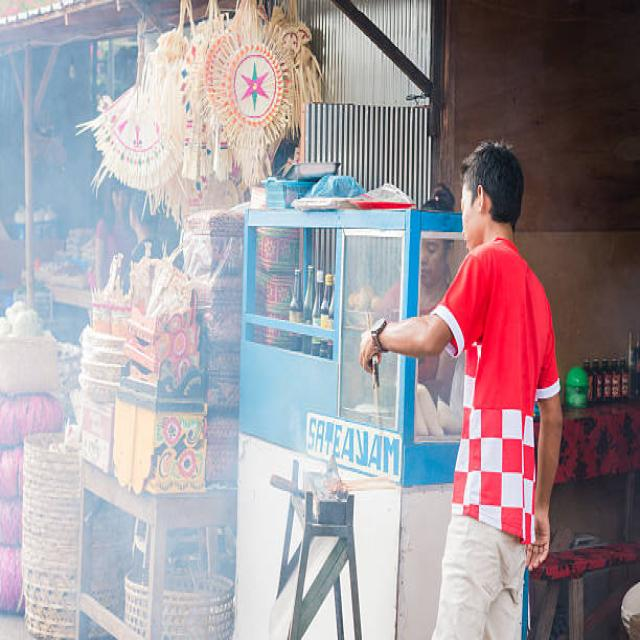Emperan: (232, 127, 576, 640)
